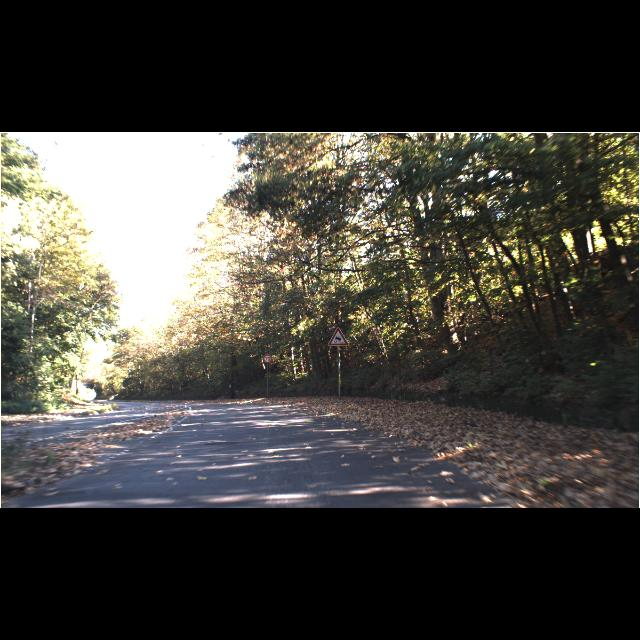danger: (326, 326, 349, 346)
prohibitory: (262, 354, 272, 364)
